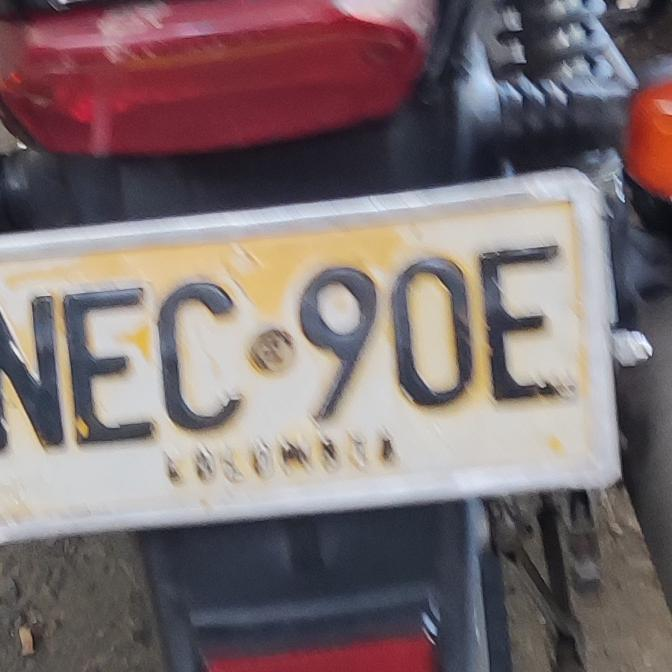plates: (0, 188, 616, 534)
